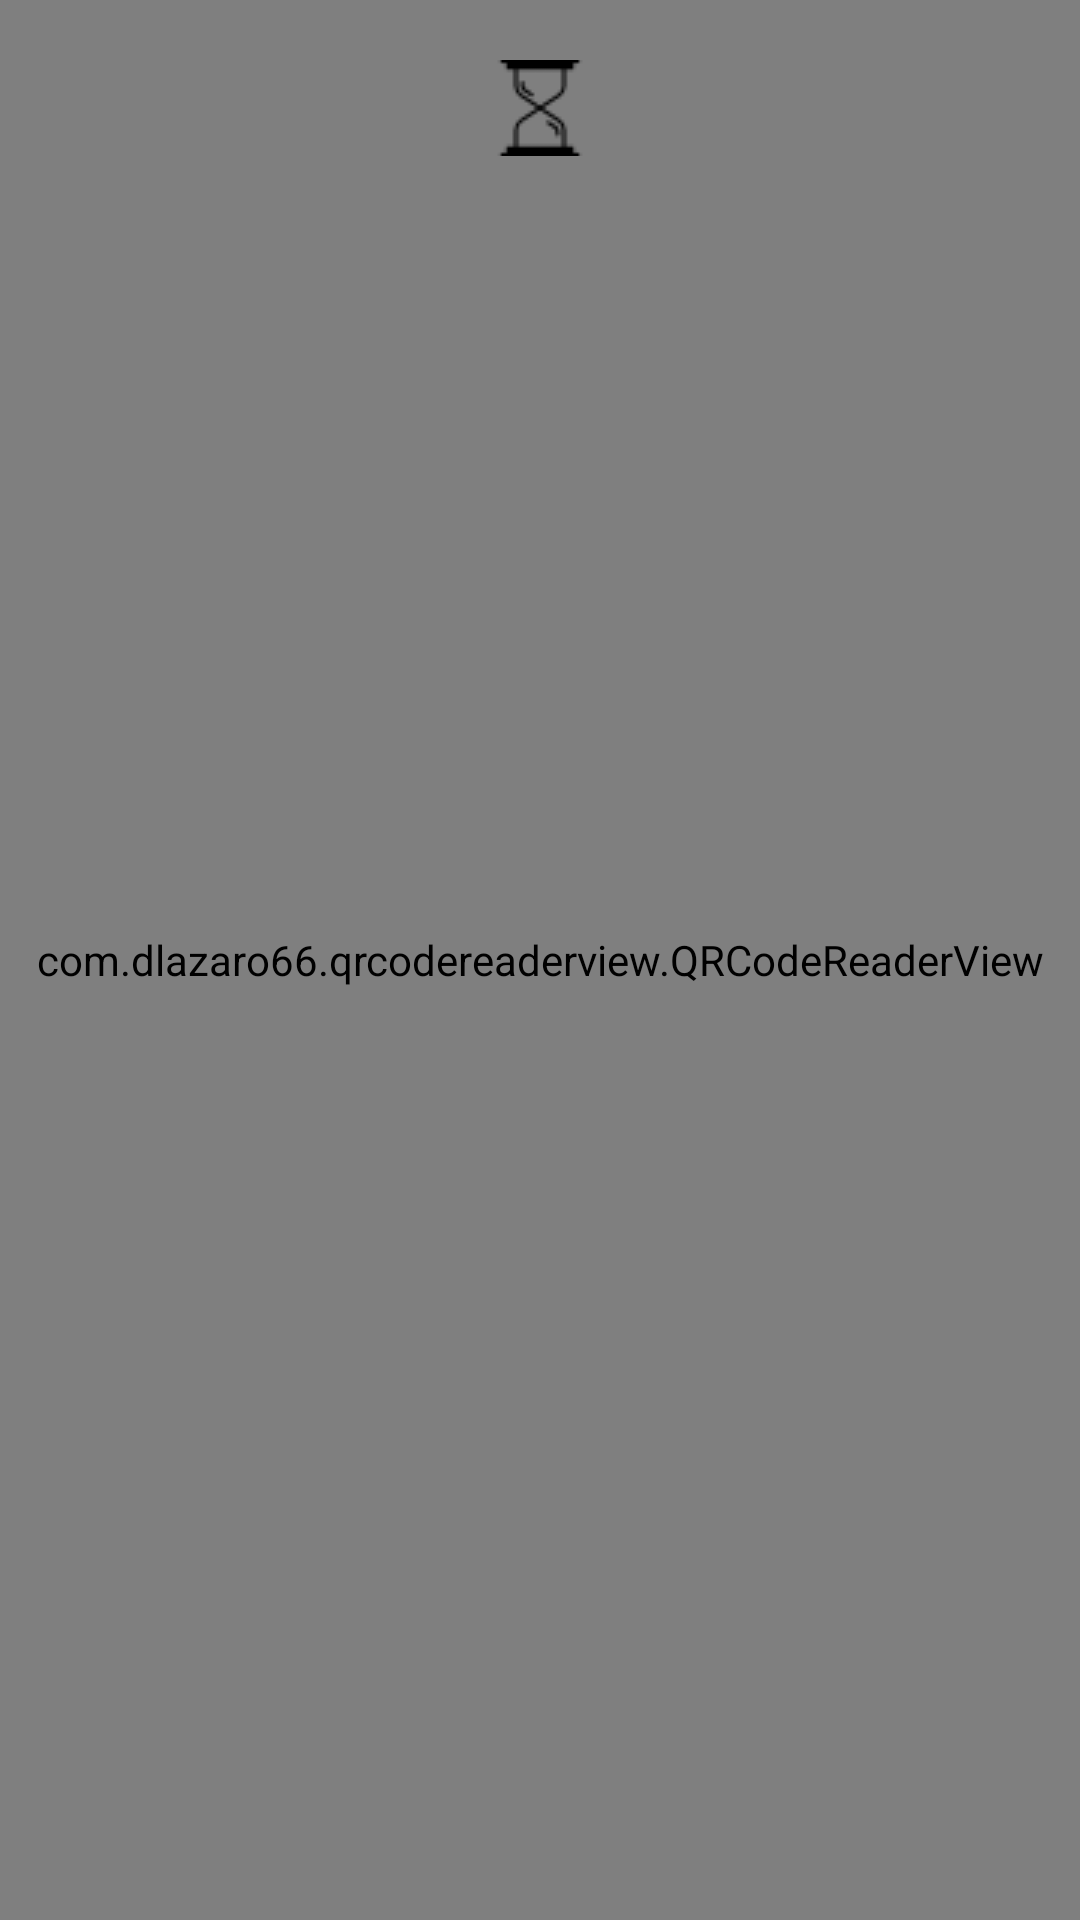

Named icons in this screenshot (1080 × 1920) and their centers, (x=x, y=y):
wait: (x=540, y=108)
